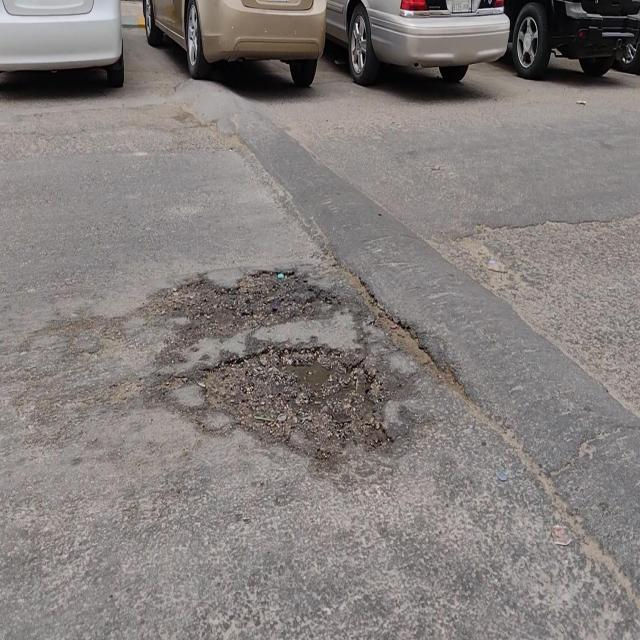Potholes: (202, 340, 398, 456), (161, 271, 332, 360)
